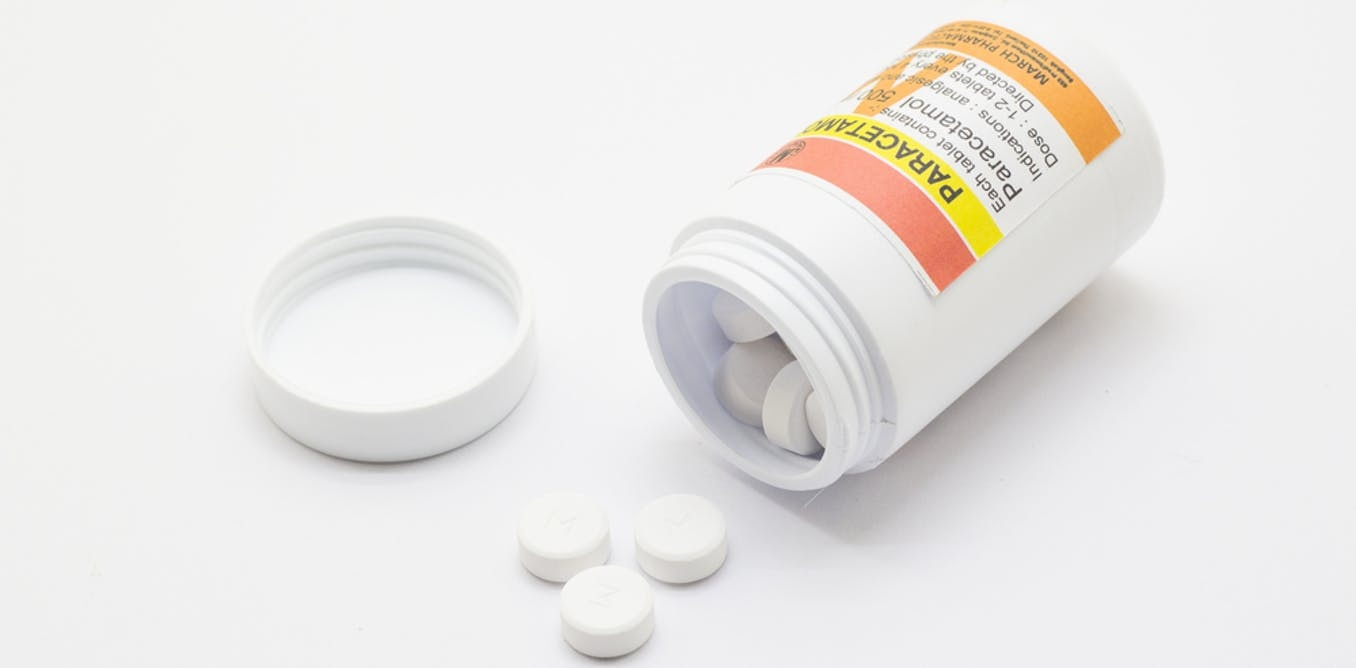pills: (634, 479, 736, 596), (508, 484, 618, 582), (550, 565, 646, 657)
